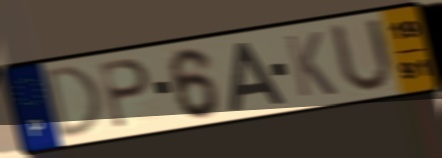6: (166, 45, 224, 120)
A: (226, 39, 287, 114)
D: (43, 62, 106, 143)
K: (282, 29, 340, 100)
P: (97, 56, 153, 131)
U: (326, 16, 396, 96)
